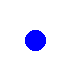circle: (25, 30, 45, 50)
